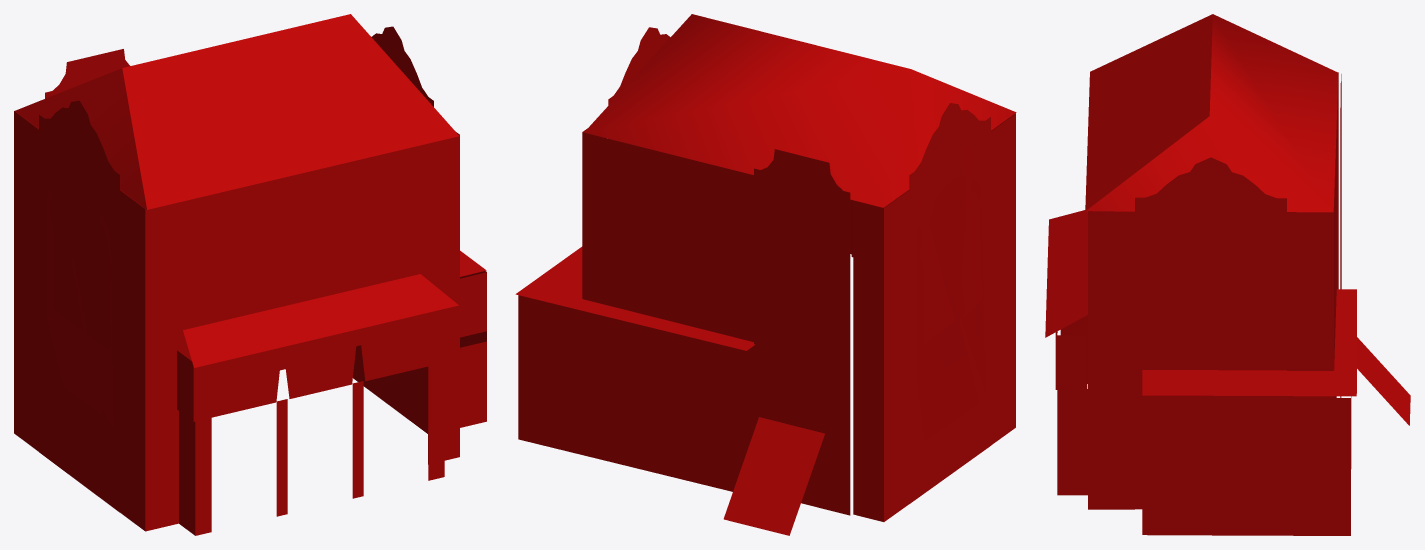
Rendered from residence_colony01_tier02_01_house_02_lod4.glb.
3 views of the same model, side by side, from view 1: azimuth 30°, elevation 25°; view 2: azimuth 150°, elevation 25°; view 3: azimuth 270°, elevation 25° (orthographic). The views are drawn at different scales.
Visible parts, largest first — view 1: MODEL_MODEL_residence_colony01_tier02_01_house_02_lod4; view 2: MODEL_MODEL_residence_colony01_tier02_01_house_02_lod4; view 3: MODEL_MODEL_residence_colony01_tier02_01_house_02_lod4.
Part boxes in pixels (x1,y1,x2,y2): MODEL_MODEL_residence_colony01_tier02_01_house_02_lod4: (14, 14, 486, 535); MODEL_MODEL_residence_colony01_tier02_01_house_02_lod4: (515, 14, 1016, 535); MODEL_MODEL_residence_colony01_tier02_01_house_02_lod4: (1045, 14, 1410, 535).
Size of the model in its own units: 1.71 by 1.78 by 1.58.
